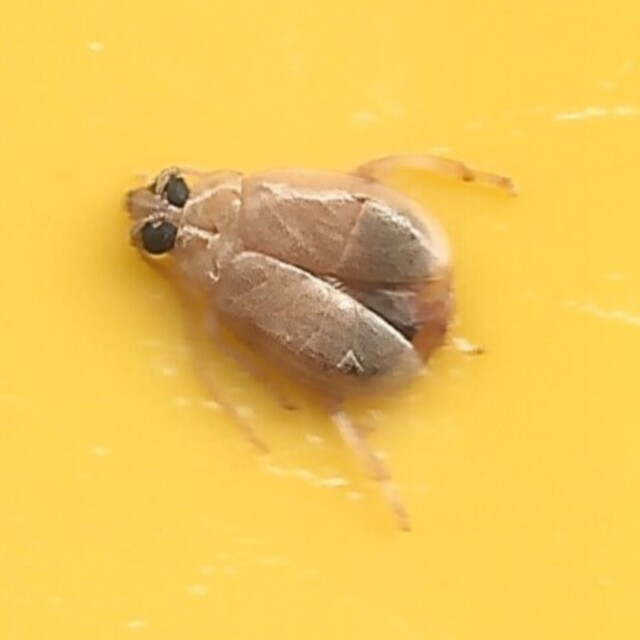Coleoptera: (123, 140, 517, 500)
